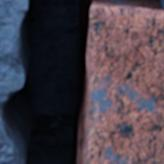brick: (85, 3, 163, 163)
crack: (0, 0, 163, 163)
